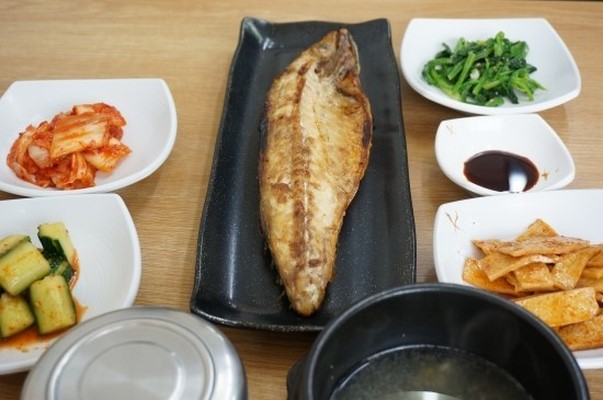godeung-eogu-i: (256, 26, 374, 315)
